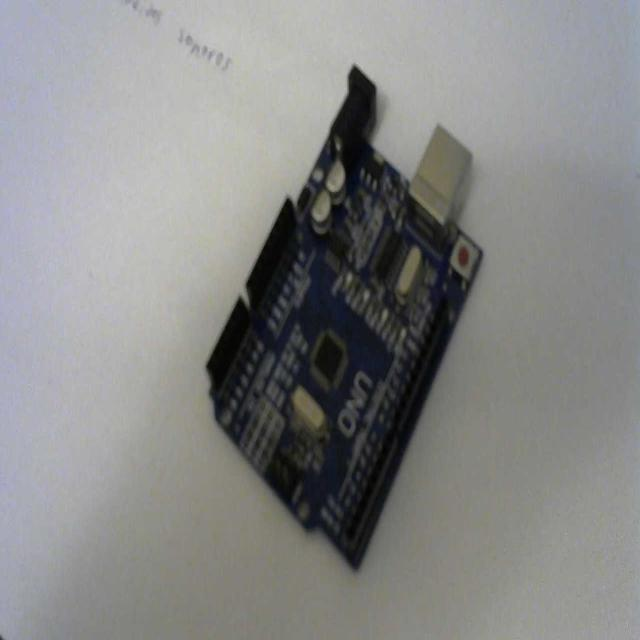arduino: (193, 60, 490, 574)
